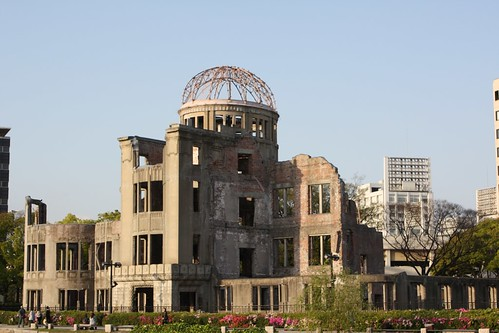building: (26, 61, 384, 309), (381, 146, 434, 243)
sky: (8, 1, 499, 194)
tree: (383, 196, 497, 274)
